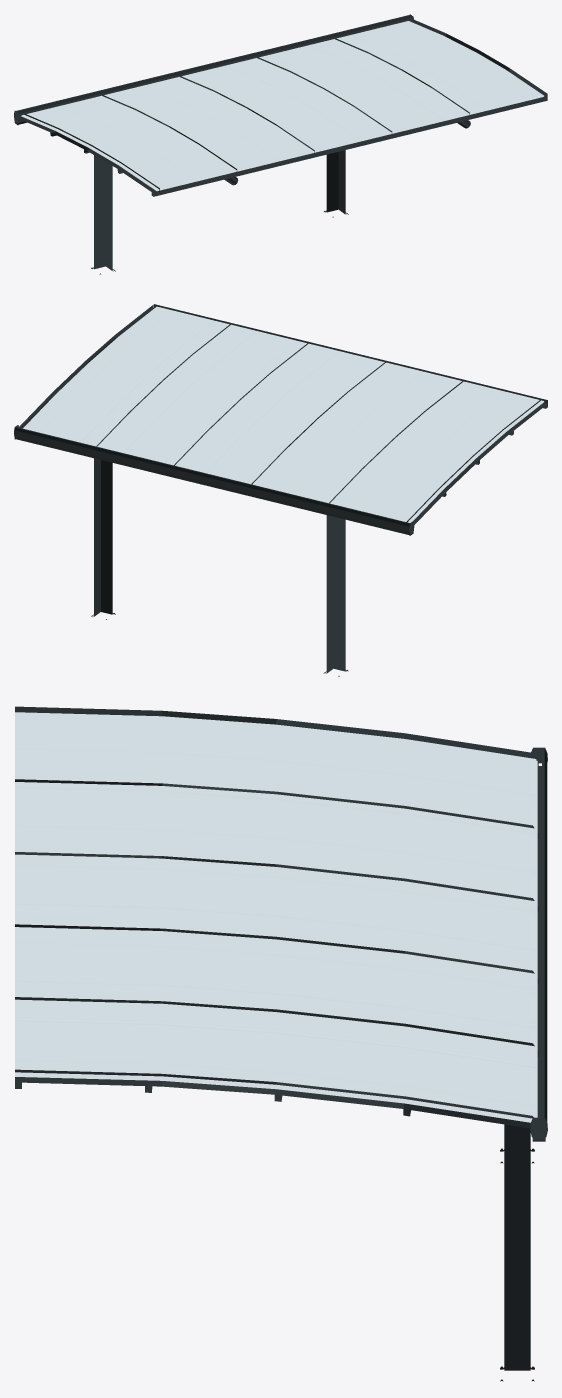
The picture shows the model from 3 angles, top to bottom: view 1: azimuth 30°, elevation 25°; view 2: azimuth 150°, elevation 25°; view 3: azimuth 270°, elevation 25°; orthographic projection. The views are drawn at different scales.
Visible parts, largest first — view 1: priximbattable_netabris_de_voiture355_carport_aluminium_2_po; view 2: priximbattable_netabris_de_voiture355_carport_aluminium_2_po; view 3: priximbattable_netabris_de_voiture355_carport_aluminium_2_po.
Boxes of the visible parts, left/top/right/bottom form: priximbattable_netabris_de_voiture355_carport_aluminium_2_po: left=14, top=14, right=547, bottom=274; priximbattable_netabris_de_voiture355_carport_aluminium_2_po: left=14, top=304, right=547, bottom=676; priximbattable_netabris_de_voiture355_carport_aluminium_2_po: left=15, top=706, right=547, bottom=1381.
Size of the model in its own units: 510 by 242 by 311.
1 material, 1 textured.
